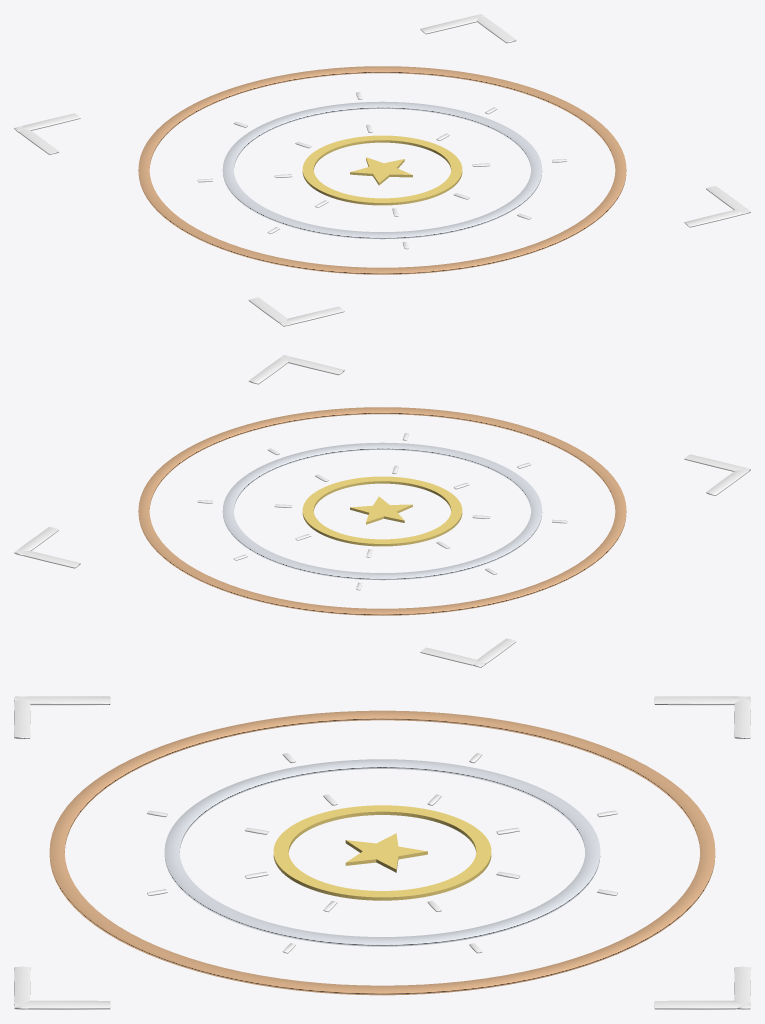
File: SlaparazziFrame.glb
3 views of the same model, one above another, from view 1: azimuth 30°, elevation 25°; view 2: azimuth 150°, elevation 25°; view 3: azimuth 270°, elevation 25° (orthographic). The views are drawn at different scales.
Parts seen in each view (by area): view 1: Bronze, Silver, Bracket, Gold; view 2: Bronze, Silver, Bracket, Gold; view 3: Bronze, Silver, Bracket, Gold.
Boxes of the visible parts, left/top/right/bottom form: Bronze: left=138, top=66, right=626, bottom=274; Silver: left=222, top=101, right=542, bottom=239; Bracket: left=14, top=14, right=750, bottom=326; Gold: left=302, top=135, right=462, bottom=205; Bronze: left=138, top=407, right=626, bottom=615; Silver: left=222, top=442, right=542, bottom=580; Bracket: left=14, top=355, right=750, bottom=667; Gold: left=302, top=476, right=462, bottom=546; Bronze: left=49, top=710, right=715, bottom=995; Silver: left=164, top=759, right=600, bottom=946; Bracket: left=14, top=696, right=750, bottom=1009; Gold: left=273, top=805, right=491, bottom=900.
Size of the model in its own units: 24.35 by 0.12 by 24.35.
